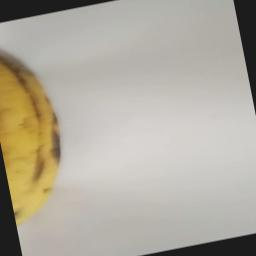Banana Unripe: (0, 34, 79, 223)
